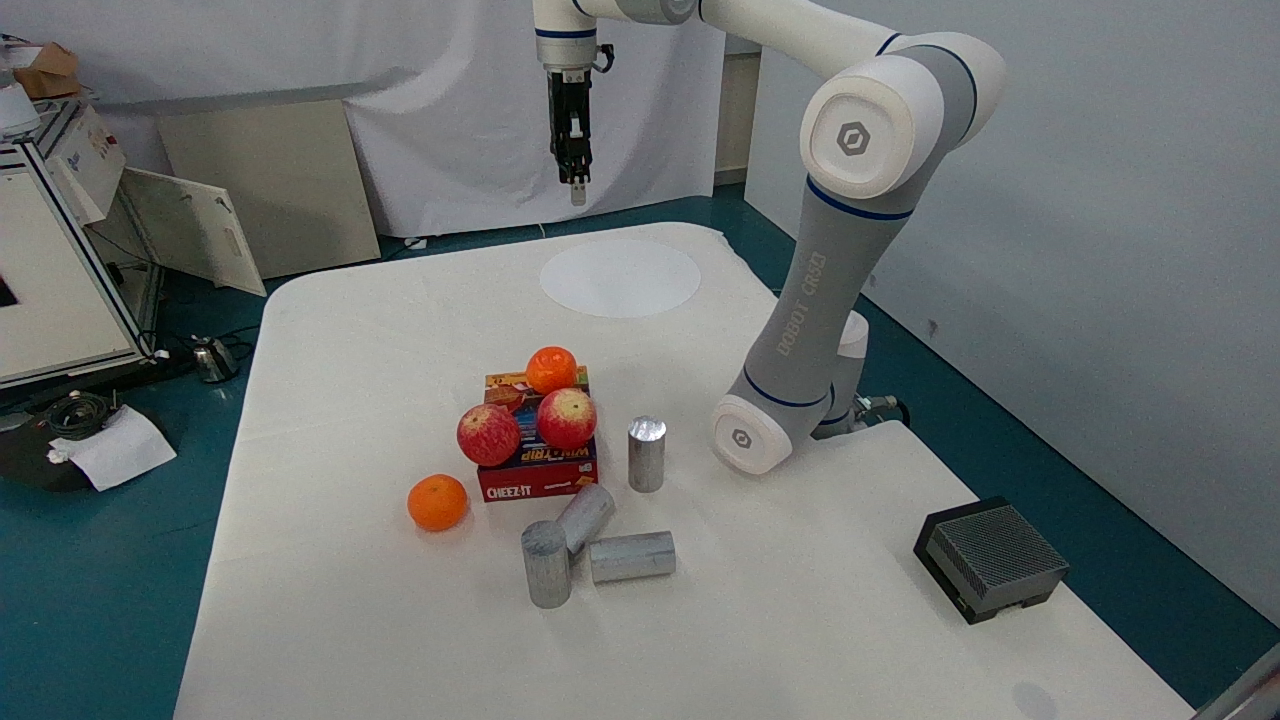apple: (524, 377, 607, 461), (450, 401, 527, 472)
metal rod: (581, 528, 692, 596), (618, 393, 684, 503), (520, 508, 580, 613)
orange: (398, 464, 483, 541), (524, 338, 586, 399)
